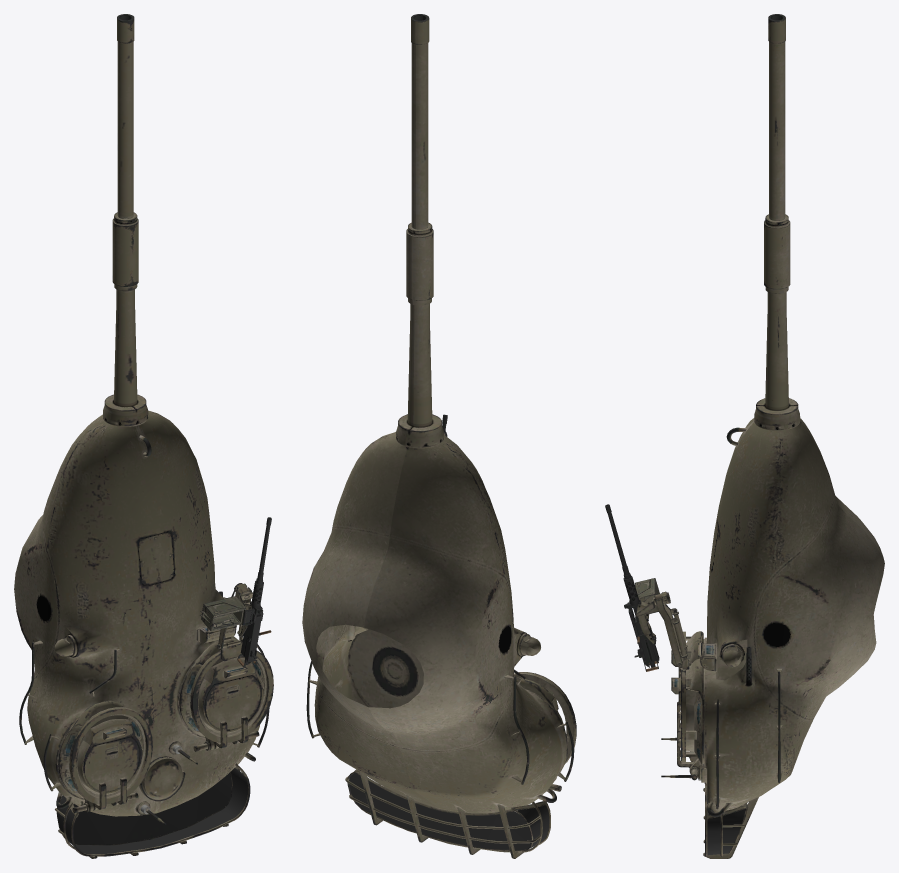
The model's file is Gun_07.glb.
3 renders of one model, left to right at view 1: azimuth 30°, elevation 25°; view 2: azimuth 150°, elevation 25°; view 3: azimuth 270°, elevation 25°, orthographic. The views are drawn at different scales.
Parts seen in each view (by area): view 1: set_0_group_0; view 2: set_0_group_0; view 3: set_0_group_0.
Part boxes in pixels (x1,y1,x2,y2): set_0_group_0: [14, 14, 273, 858]; set_0_group_0: [302, 14, 576, 858]; set_0_group_0: [605, 14, 884, 858].
Bounding box in the file's own units: 2.36 × 7.99 × 2.48.
1 material, 1 textured.
